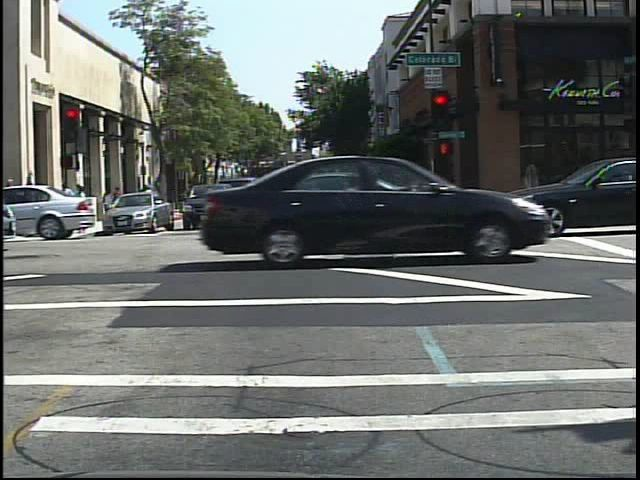person: (140, 181, 156, 215), (137, 181, 152, 212)
